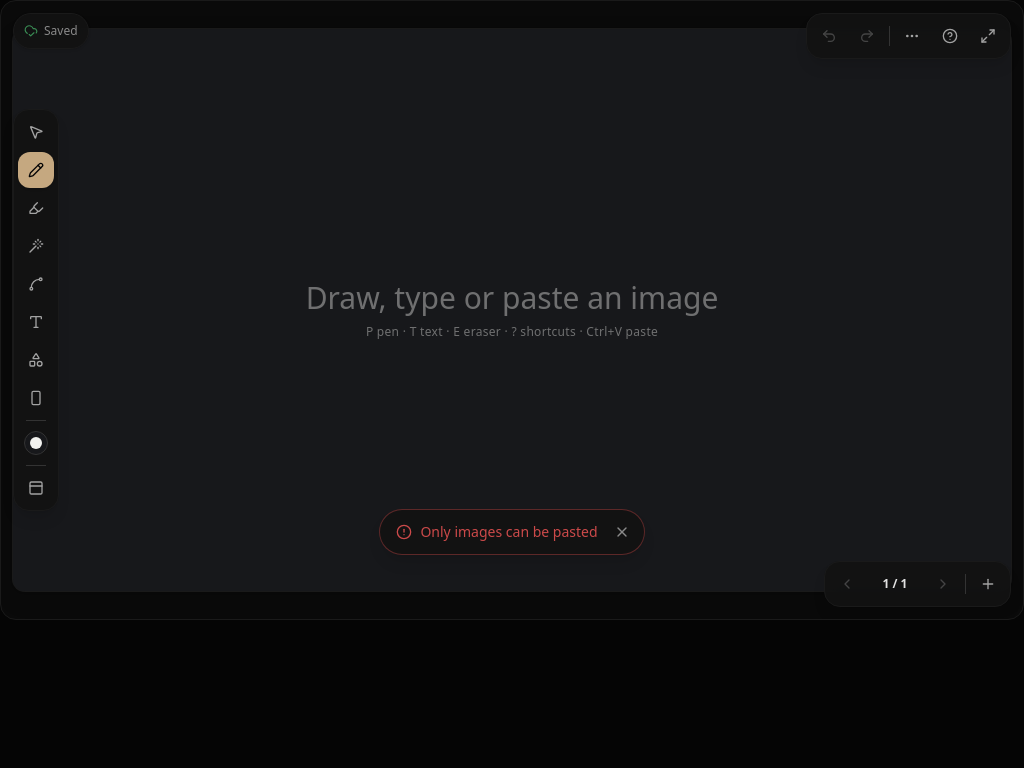
Test: ClassroomBoard Component (SDD/2026-10-03_07-lousa-virtual.md) › CT09 / CA09: rejects non-image paste and displays 'Only images can be pasted'
The width and height of the screenshot is (1024, 768).
Expected: the message "Only images can be pasted" is shown, [379, 509, 644, 555]
Click the button named "Dismiss error": [622, 532] box [606, 516, 638, 548]
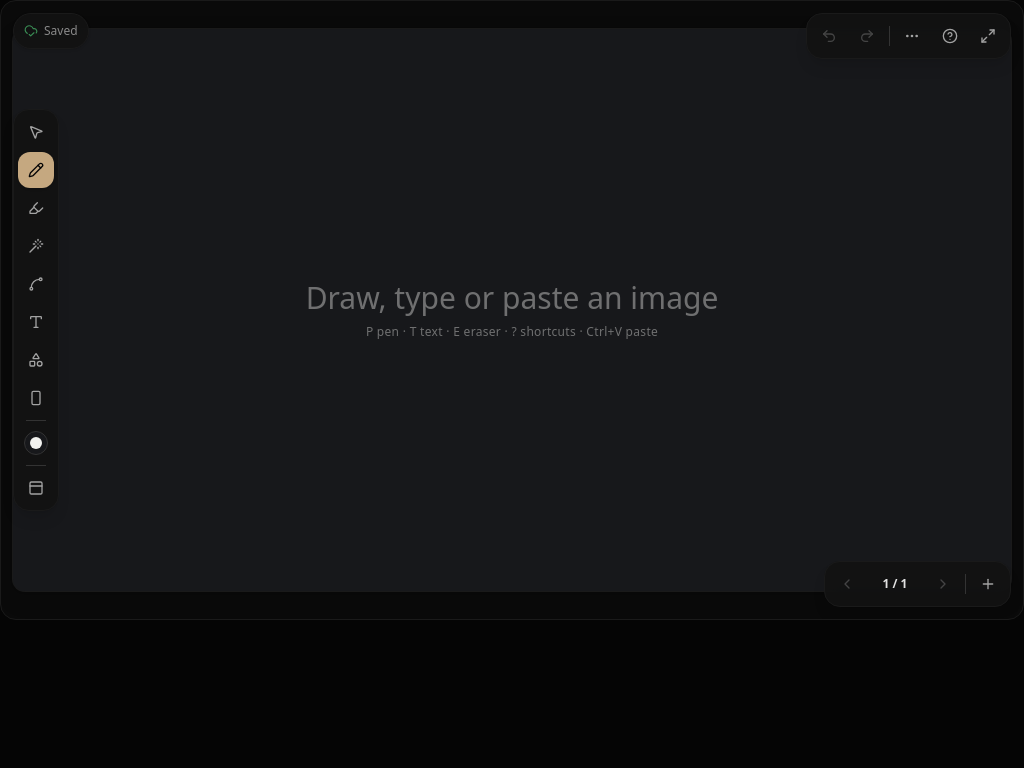
Now the message "Only images can be pasted" is gone
